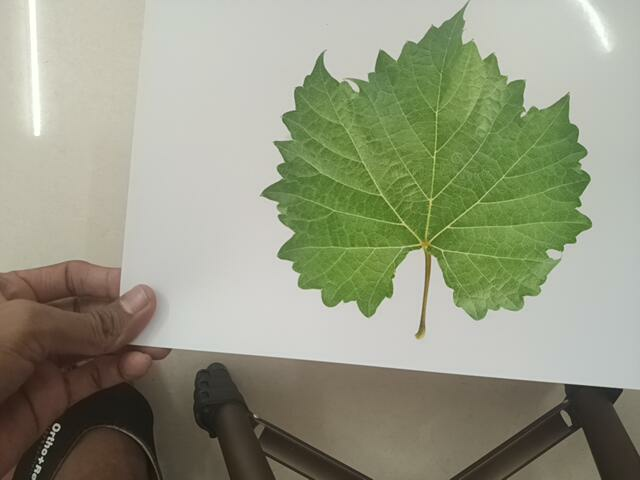Grape_Healthy: (258, 5, 606, 338)
